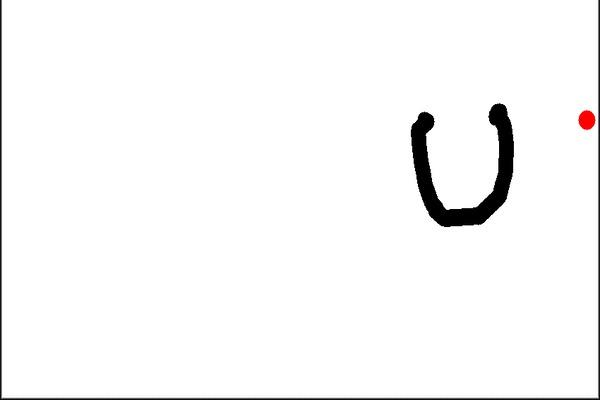U: (402, 94, 527, 236)
